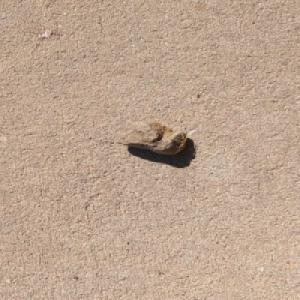Rock: (115, 121, 187, 155)
